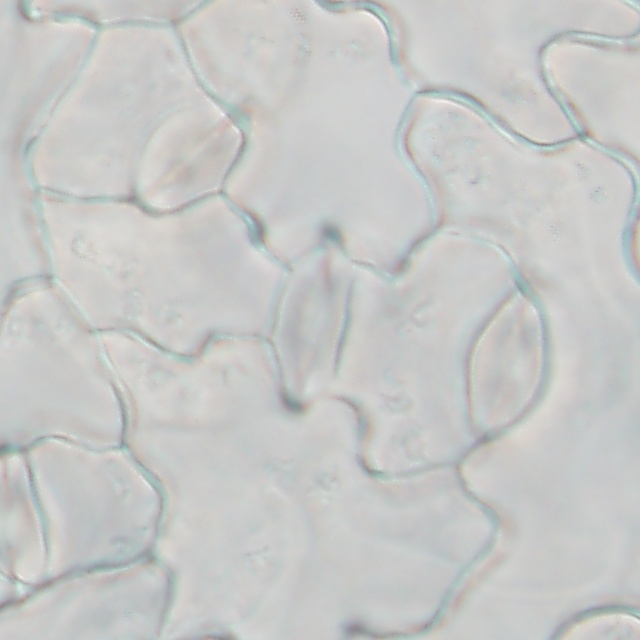center: (170, 122, 229, 181), (481, 356, 552, 372), (575, 620, 615, 626)
stomata-huw1: (464, 285, 569, 443), (133, 100, 269, 216), (0, 442, 57, 608), (551, 607, 639, 639)
